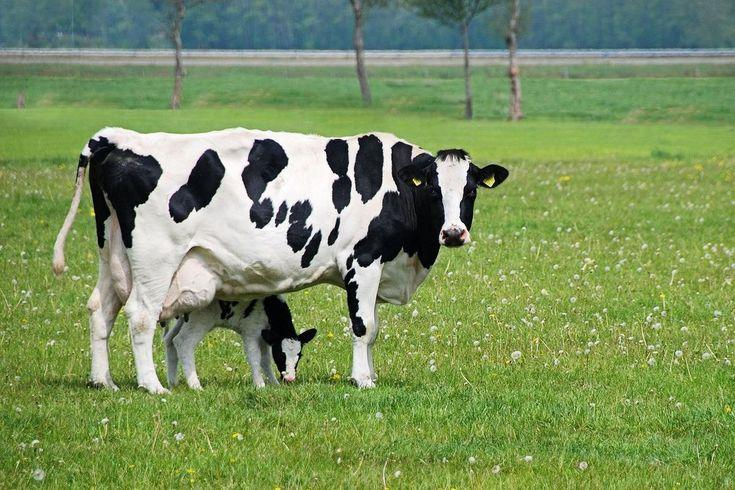cow: (51, 74, 501, 414)
